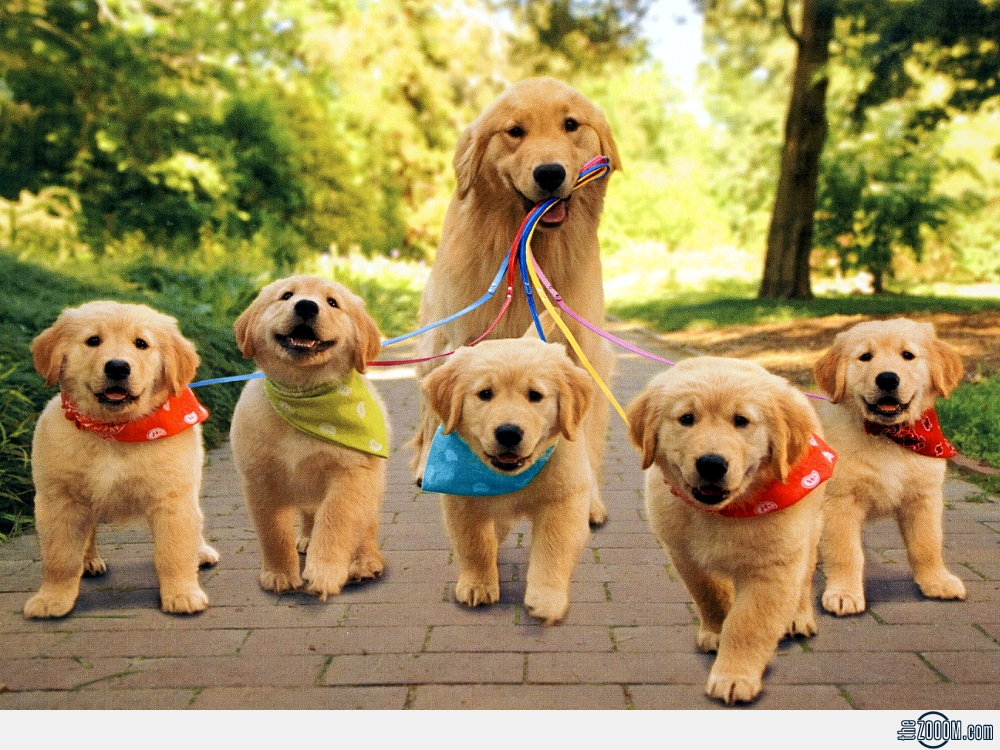dog: (414, 70, 619, 529), (627, 346, 814, 709), (17, 300, 216, 634), (427, 323, 616, 618), (231, 264, 395, 593), (805, 306, 967, 618)
